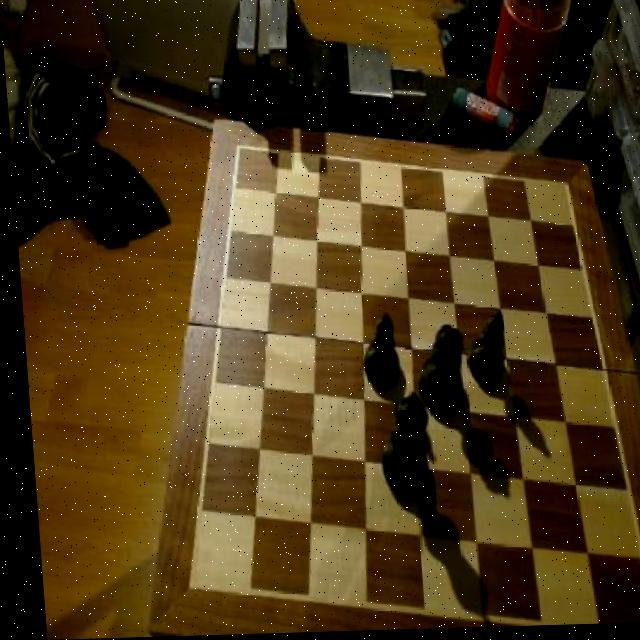bishop: (457, 307, 507, 394), (352, 310, 397, 395)
black-bishop: (366, 392, 427, 503)
black-pawn: (405, 323, 463, 416)
